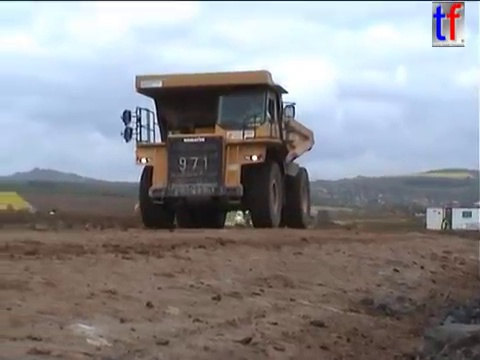truck: (118, 68, 317, 231)
worker: (241, 201, 256, 229), (233, 207, 248, 231)
